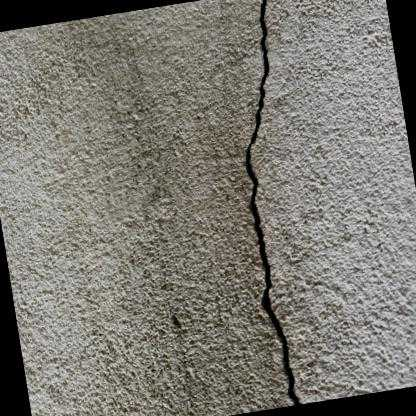crack: (243, 0, 302, 405)
